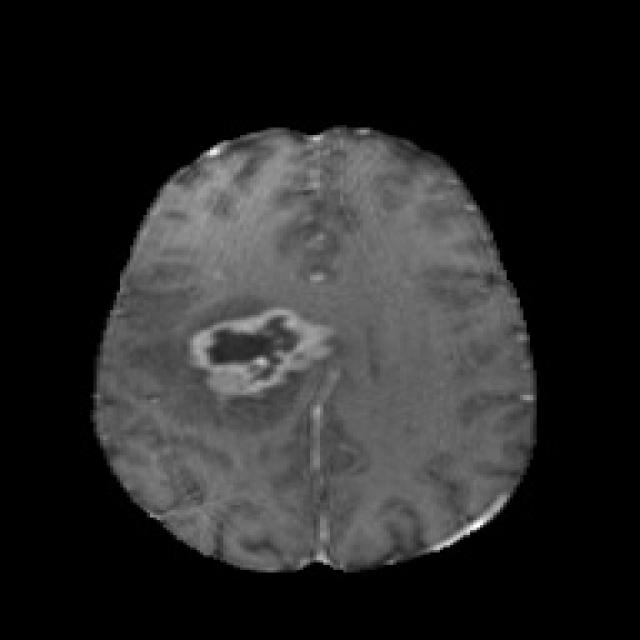positive: (185, 308, 332, 394)
